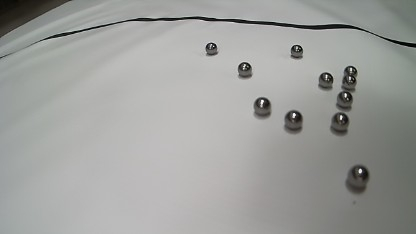ironball: (347, 164, 369, 188), (330, 112, 349, 131), (284, 110, 303, 129), (253, 97, 270, 115), (337, 91, 353, 107), (318, 72, 333, 88), (238, 62, 252, 77), (342, 75, 357, 89), (290, 44, 303, 57), (343, 65, 357, 77), (205, 42, 217, 54)
